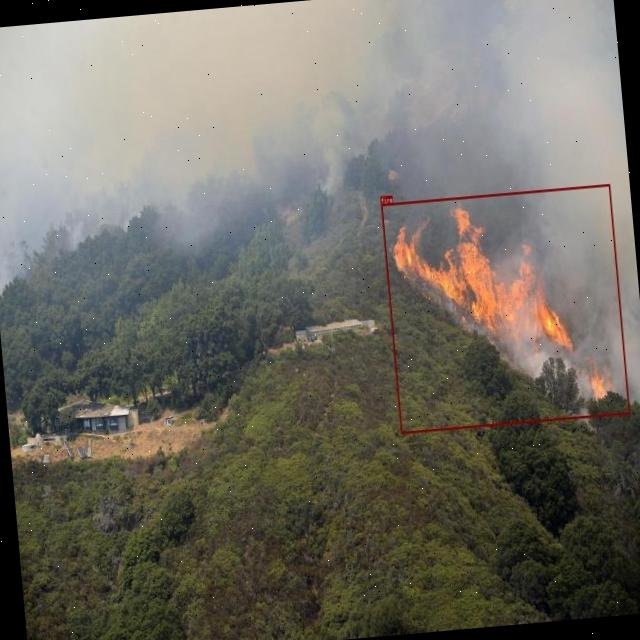fire: (380, 184, 629, 434)
